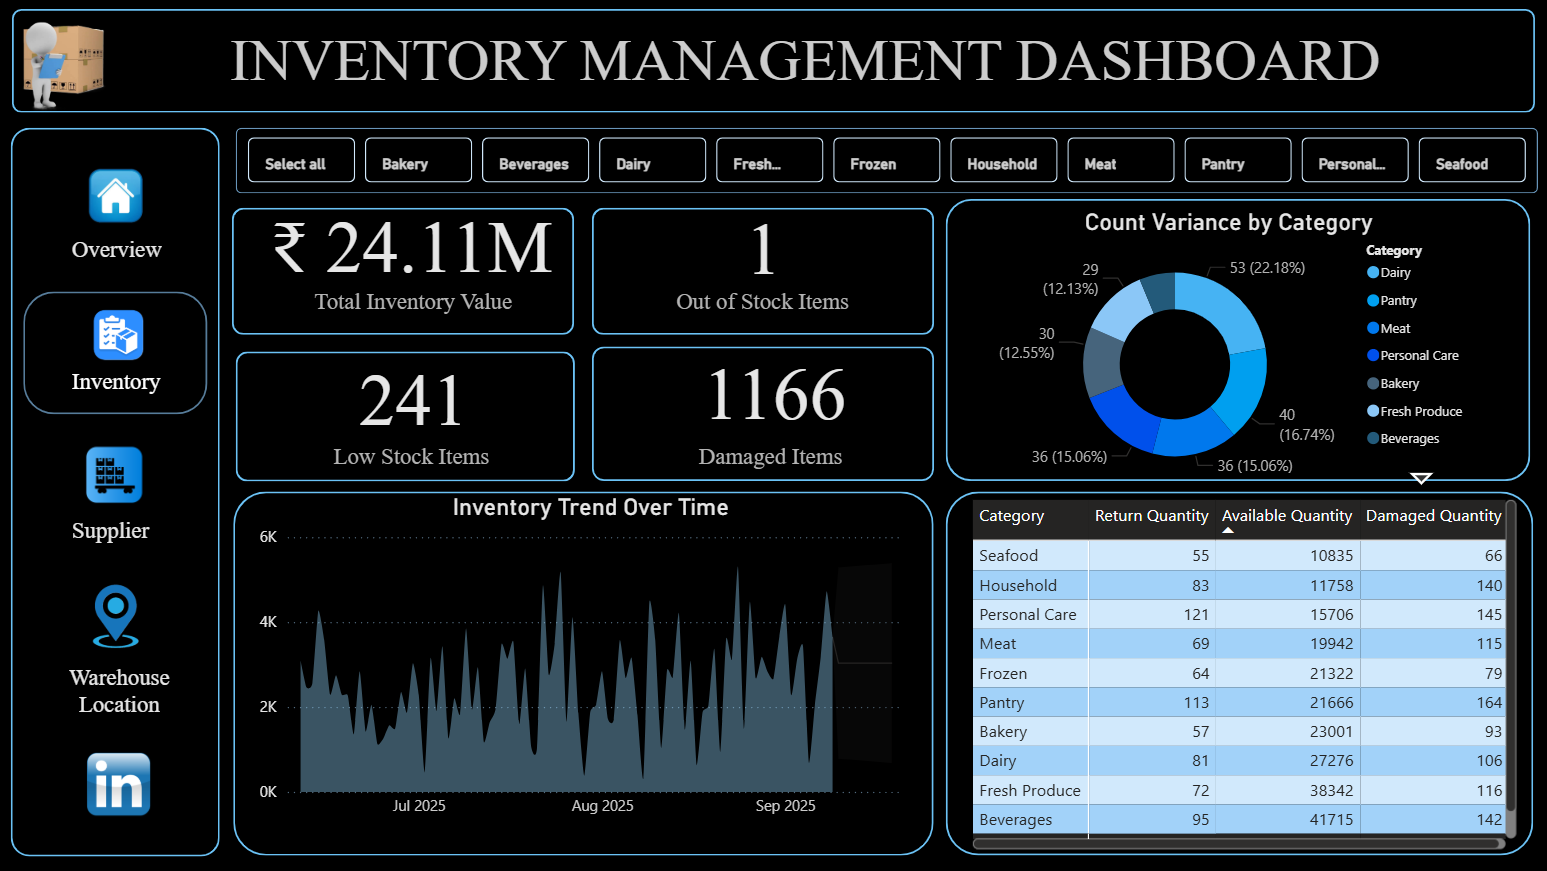

What the dashboard file says about the page in this screenshot:
{"tool":"powerbi","page":{"name":"Inventory","canvas":[1280,720],"ordinal":1},"visuals":[{"type":"shape","box":[487.8,285.2,280.4,110.3],"z":0},{"type":"shape","box":[195.4,288.8,278.1,106.7],"z":1000},{"type":"shape","box":[487.8,171.4,280.4,104.3],"z":2000},{"type":"shape","box":[193,171.4,280.4,104.3],"z":3000},{"type":"shape","box":[195.4,105.5,1067.9,53.9],"z":4000},{"type":"shape","box":[12,8.4,1248.8,85.1],"z":5000},{"type":"shape","box":[11.4,106,171.5,597.6],"z":6000},{"type":"shape","box":[777.8,403.9,481.8,298.4],"z":7000},{"type":"shape","box":[193.3,404,574.2,298.7],"z":8000},{"type":"textbox","box":[99.8,18.4,1126.3,87.2],"z":9000},{"type":"card","fields":{"Values":["Sum(Inventory Management E-Grocery - InventoryData.Total Inventory Value USD)"]},"box":[217.2,163.2,246.3,69.6],"z":10000},{"type":"textbox","box":[231.8,232.8,219.3,42.6],"z":11000},{"type":"card","fields":{"Values":["CountNonNull(Inventory.Inventory Status)"]},"box":[505,164.5,246.7,72.1],"z":12000},{"type":"card","fields":{"Values":["Sum(Inventory.Damaged Qty)"]},"box":[514.4,283.7,246.3,69.6],"z":13000},{"type":"textbox","box":[486.4,232.8,281.6,42.6],"z":14000},{"type":"card","fields":{"Values":["Inventory.Low Stock Items"]},"box":[218.2,287.9,247.3,71.7],"z":15000},{"type":"textbox","box":[495.7,359.6,267.1,36.4],"z":16000},{"type":"textbox","box":[193.3,359.6,292,36.4],"z":17000},{"type":"advancedSlicerVisual","fields":{"Values":["Inventory.Category"]},"box":[201.3,109.1,1059.5,47.9],"z":18000},{"type":"textbox","box":[56.1,189.1,96.7,45.7],"z":19000},{"type":"pivotTable","fields":{"Rows":["Inventory.Category"],"Values":["Sum(Inventory.Returns Qty)","Sum(Inventory.Quantity On Hand)","Sum(Inventory.Damaged Qty)"]},"box":[795.8,406.3,455.4,296],"z":20000},{"type":"shape","box":[21.6,239.7,151,100.7],"z":21000},{"type":"shape","box":[777.8,164.2,479.4,231.3],"z":22000},{"type":"textbox","box":[56.1,298.3,141.3,62.4],"z":23000},{"type":"image","box":[62.4,359.6,67.6,61.3],"z":24000},{"type":"image","box":[37.4,221.4,123.7,108.1],"z":25000},{"type":"image","box":[64.4,129.9,65.5,59.2],"z":26000},{"type":"textbox","box":[56.3,420.7,97.1,38.4],"z":27000},{"type":"image","box":[10.8,8.4,88.7,97.1],"z":28000},{"type":"image","box":[53.3,458.3,88.3,96.7],"z":29000},{"type":"textbox","box":[36.7,541.7,126.7,70],"z":30000},{"type":"image","box":[47.9,593.3,103.1,100.7],"z":31000},{"type":"lineChart","title":"Inventory Trend Over Time","fields":{"Y":["Sum(Inventory.Quantity On Hand)"],"Category":["Inventory.Audit Date.Variation.Date Hierarchy.Year","Inventory.Audit Date.Variation.Date Hierarchy.Quarter","Inventory.Audit Date.Variation.Date Hierarchy.Month","Inventory.Audit Date.Variation.Date Hierarchy.Day"]},"box":[209.7,406.3,553.7,274.5],"z":32000},{"type":"donutChart","fields":{"Y":["Sum(Inventory.Count Variance)"],"Category":["Inventory.Category"]},"box":[804.2,172.6,411.1,233.7],"z":33000}]}

Visuals, with their boxes in screenshot pixels (x1, y1, x2, y2), scaled from the page's 1280x720 canvas onto the 1547x871 screenshot:
shape: region(590, 345, 928, 478)
shape: region(236, 349, 572, 478)
shape: region(590, 207, 928, 334)
shape: region(233, 207, 572, 334)
shape: region(236, 128, 1527, 193)
shape: region(15, 10, 1524, 113)
shape: region(14, 128, 221, 851)
shape: region(940, 489, 1522, 850)
shape: region(234, 489, 928, 850)
textbox: region(121, 22, 1482, 128)
card - Sum(Inventory Management E-Grocery - InventoryData.Total Inventory Value USD): region(263, 197, 560, 282)
textbox: region(280, 282, 545, 333)
card - CountNonNull(Inventory.Inventory Status): region(610, 199, 908, 286)
card - Sum(Inventory.Damaged Qty): region(622, 343, 919, 427)
textbox: region(588, 282, 928, 333)
card - Inventory.Low Stock Items: region(264, 348, 563, 435)
textbox: region(599, 435, 922, 479)
textbox: region(234, 435, 587, 479)
advancedSlicerVisual - Inventory.Category: region(243, 132, 1524, 190)
textbox: region(68, 229, 185, 284)
pivotTable - Inventory.Category x Sum(Inventory.Returns Qty): region(962, 492, 1512, 850)
shape: region(26, 290, 209, 412)
shape: region(940, 199, 1519, 478)
textbox: region(68, 361, 239, 436)
image: region(75, 435, 157, 509)
image: region(45, 268, 195, 399)
image: region(78, 157, 157, 229)
textbox: region(68, 509, 185, 555)
image: region(13, 10, 120, 128)
image: region(64, 554, 171, 671)
textbox: region(44, 655, 197, 740)
image: region(58, 718, 182, 840)
"Inventory Trend Over Time" lineChart: region(253, 492, 923, 824)
donutChart - Sum(Inventory.Count Variance) x Inventory.Category: region(972, 209, 1469, 492)
